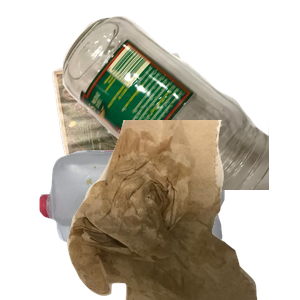glass: (60, 14, 300, 194)
paper: (49, 51, 235, 212)
plastic: (37, 147, 254, 300)
trash: (65, 120, 300, 300)
